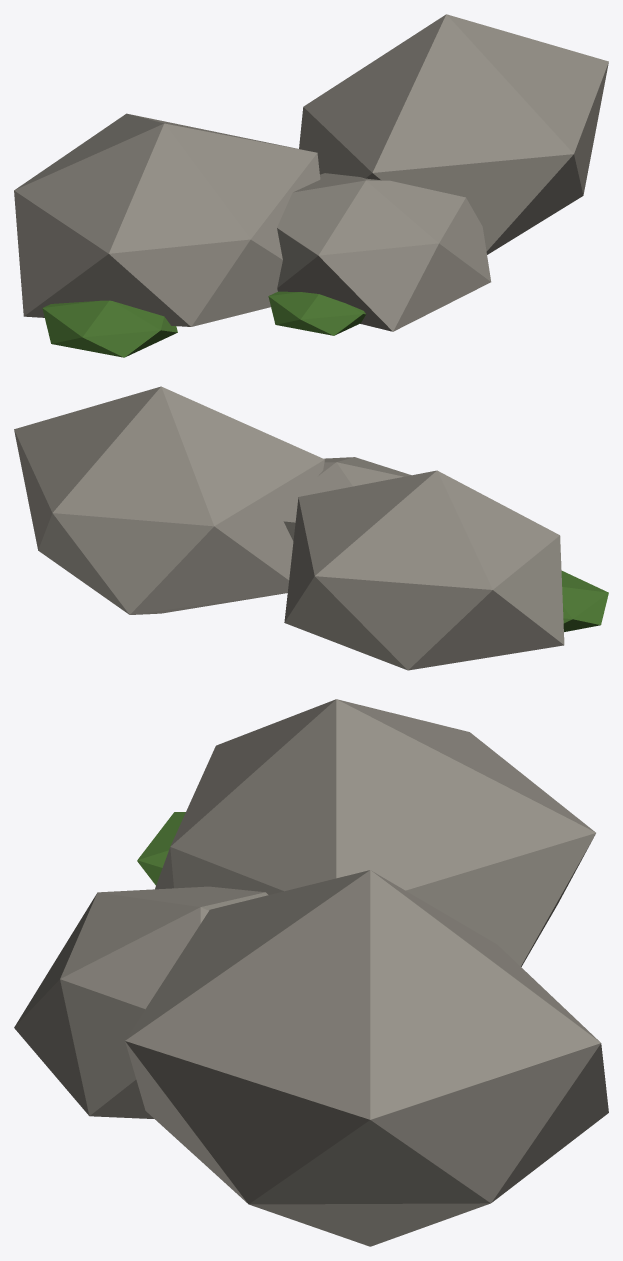
Rendered from boulders.glb.
3 views of the same model, one above another, from view 1: azimuth 30°, elevation 25°; view 2: azimuth 150°, elevation 25°; view 3: azimuth 270°, elevation 25° (orthographic). The views are drawn at different scales.
Parts seen in each view (by area): view 1: prop_boulders; view 2: prop_boulders; view 3: prop_boulders.
Part boxes in pixels (box(x1,y1,x2,y2)): prop_boulders: box(14, 14, 608, 357); prop_boulders: box(14, 386, 608, 670); prop_boulders: box(14, 699, 608, 1246).
Bounding box in the file's own units: 0.6166 × 0.2451 × 0.3507.
